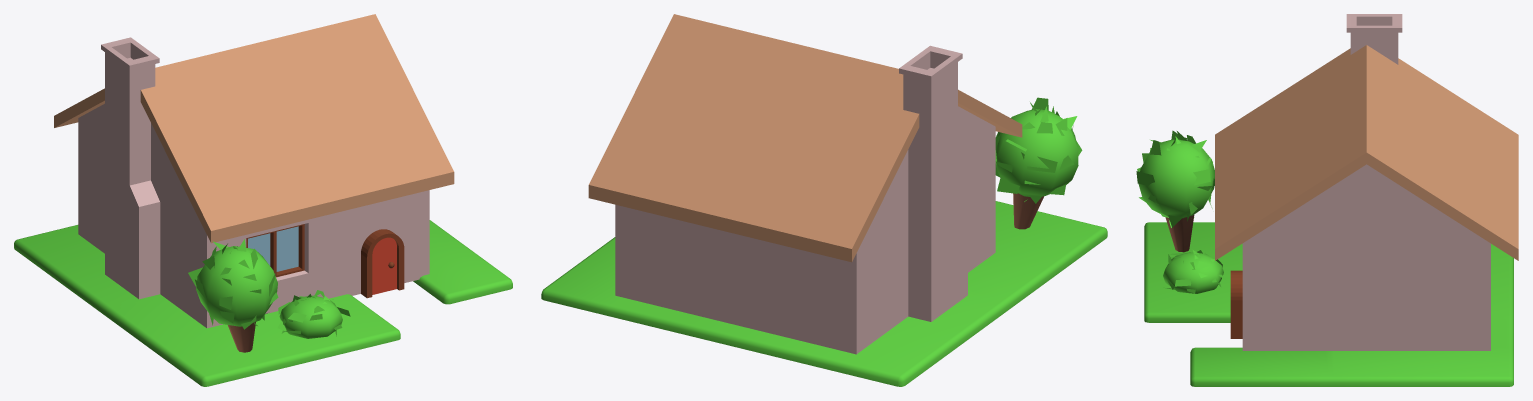
Rendered from House.fbx.
3 views of the same model, side by side, from view 1: azimuth 30°, elevation 25°; view 2: azimuth 150°, elevation 25°; view 3: azimuth 270°, elevation 25° (orthographic). The views are drawn at different scales.
Parts seen in each view (by area): view 1: House, Grass, Tree, Bush; view 2: House, Grass, Tree; view 3: House, Grass, Tree, Bush.
Boxes of the visible parts, bbox=[...] form: House: bbox=[54, 14, 454, 328]; Grass: bbox=[14, 220, 512, 386]; Tree: bbox=[188, 239, 278, 352]; Bush: bbox=[277, 290, 350, 338]; House: bbox=[588, 14, 1022, 354]; Grass: bbox=[541, 201, 1107, 386]; Tree: bbox=[995, 97, 1082, 229]; House: bbox=[1215, 14, 1518, 350]; Grass: bbox=[1144, 222, 1513, 386]; Tree: bbox=[1136, 130, 1214, 252]; Bush: bbox=[1163, 250, 1226, 293].
Size of the model in its own units: 1506 by 1031 by 1539.
